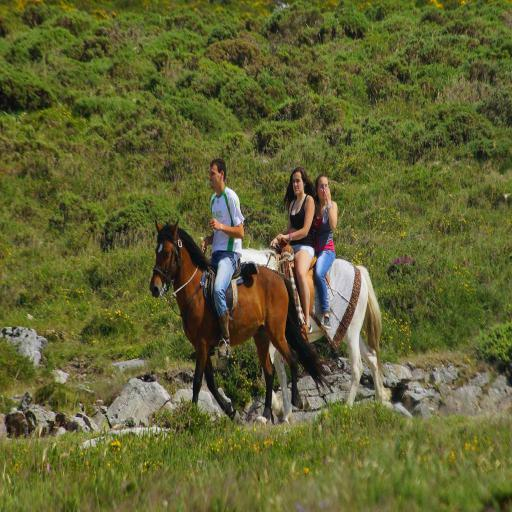Horse: (149, 219, 332, 427), (240, 250, 388, 428)
